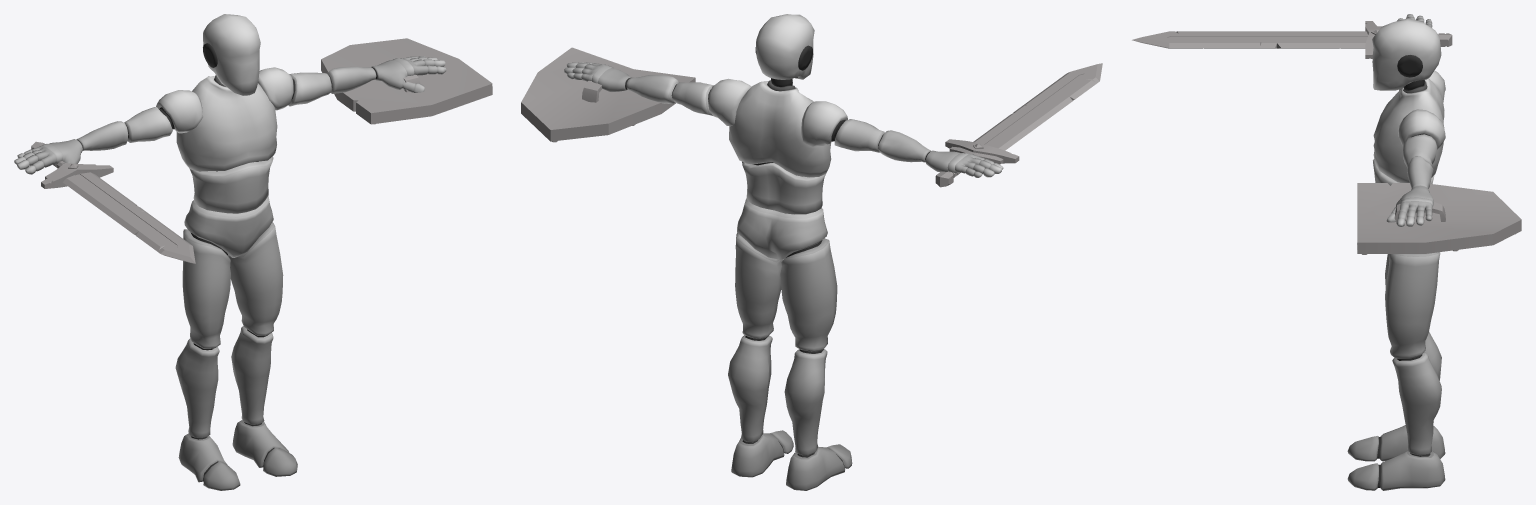
Rendered from troop_infantry_shield.glb.
3 renders of one model, left to right at view 1: azimuth 30°, elevation 25°; view 2: azimuth 150°, elevation 25°; view 3: azimuth 270°, elevation 25°, orthographic.
Parts seen in each view (by area): view 1: troop_infantry_shield; view 2: troop_infantry_shield; view 3: troop_infantry_shield.
Boxes of the visible parts, x1,y1,x2,y2 form: troop_infantry_shield: [14, 14, 492, 490]; troop_infantry_shield: [521, 14, 1102, 490]; troop_infantry_shield: [1132, 14, 1521, 490].
Bounding box in the file's own units: 1.81 × 1.72 × 1.36.
Materials: 3 (3 with a texture image).
